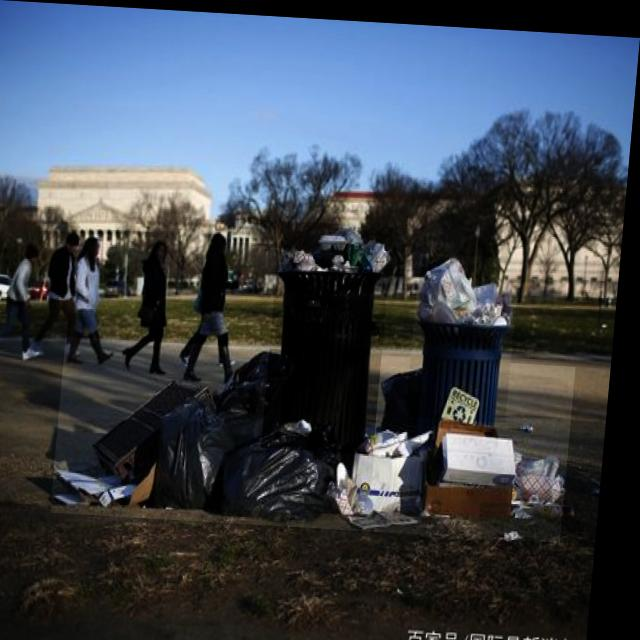garbage: (59, 335, 582, 535)
overflow: (269, 217, 397, 449), (413, 247, 524, 416)
